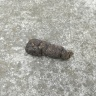Dog: (24, 38, 74, 62)
